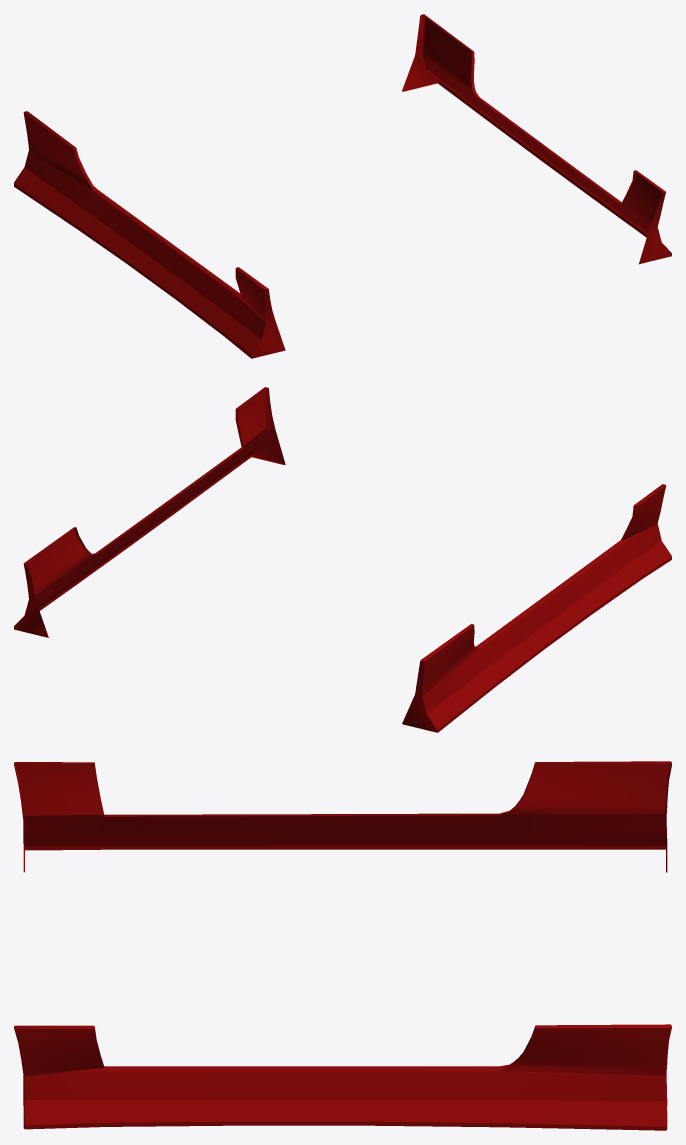
The model's file is sideskirts_dmax.glb.
3 views of the same model, one above another, from view 1: azimuth 30°, elevation 25°; view 2: azimuth 150°, elevation 25°; view 3: azimuth 270°, elevation 25° (orthographic). The views are drawn at different scales.
Parts seen in each view (by area): view 1: Sideskirts; view 2: Sideskirts; view 3: Sideskirts.
Part boxes in pixels (x1,y1,x2,y2): Sideskirts: (14, 14, 671, 358); Sideskirts: (14, 387, 671, 732); Sideskirts: (14, 761, 671, 1130).
Bounding box in the file's own units: 1.79 × 0.287 × 1.78.
